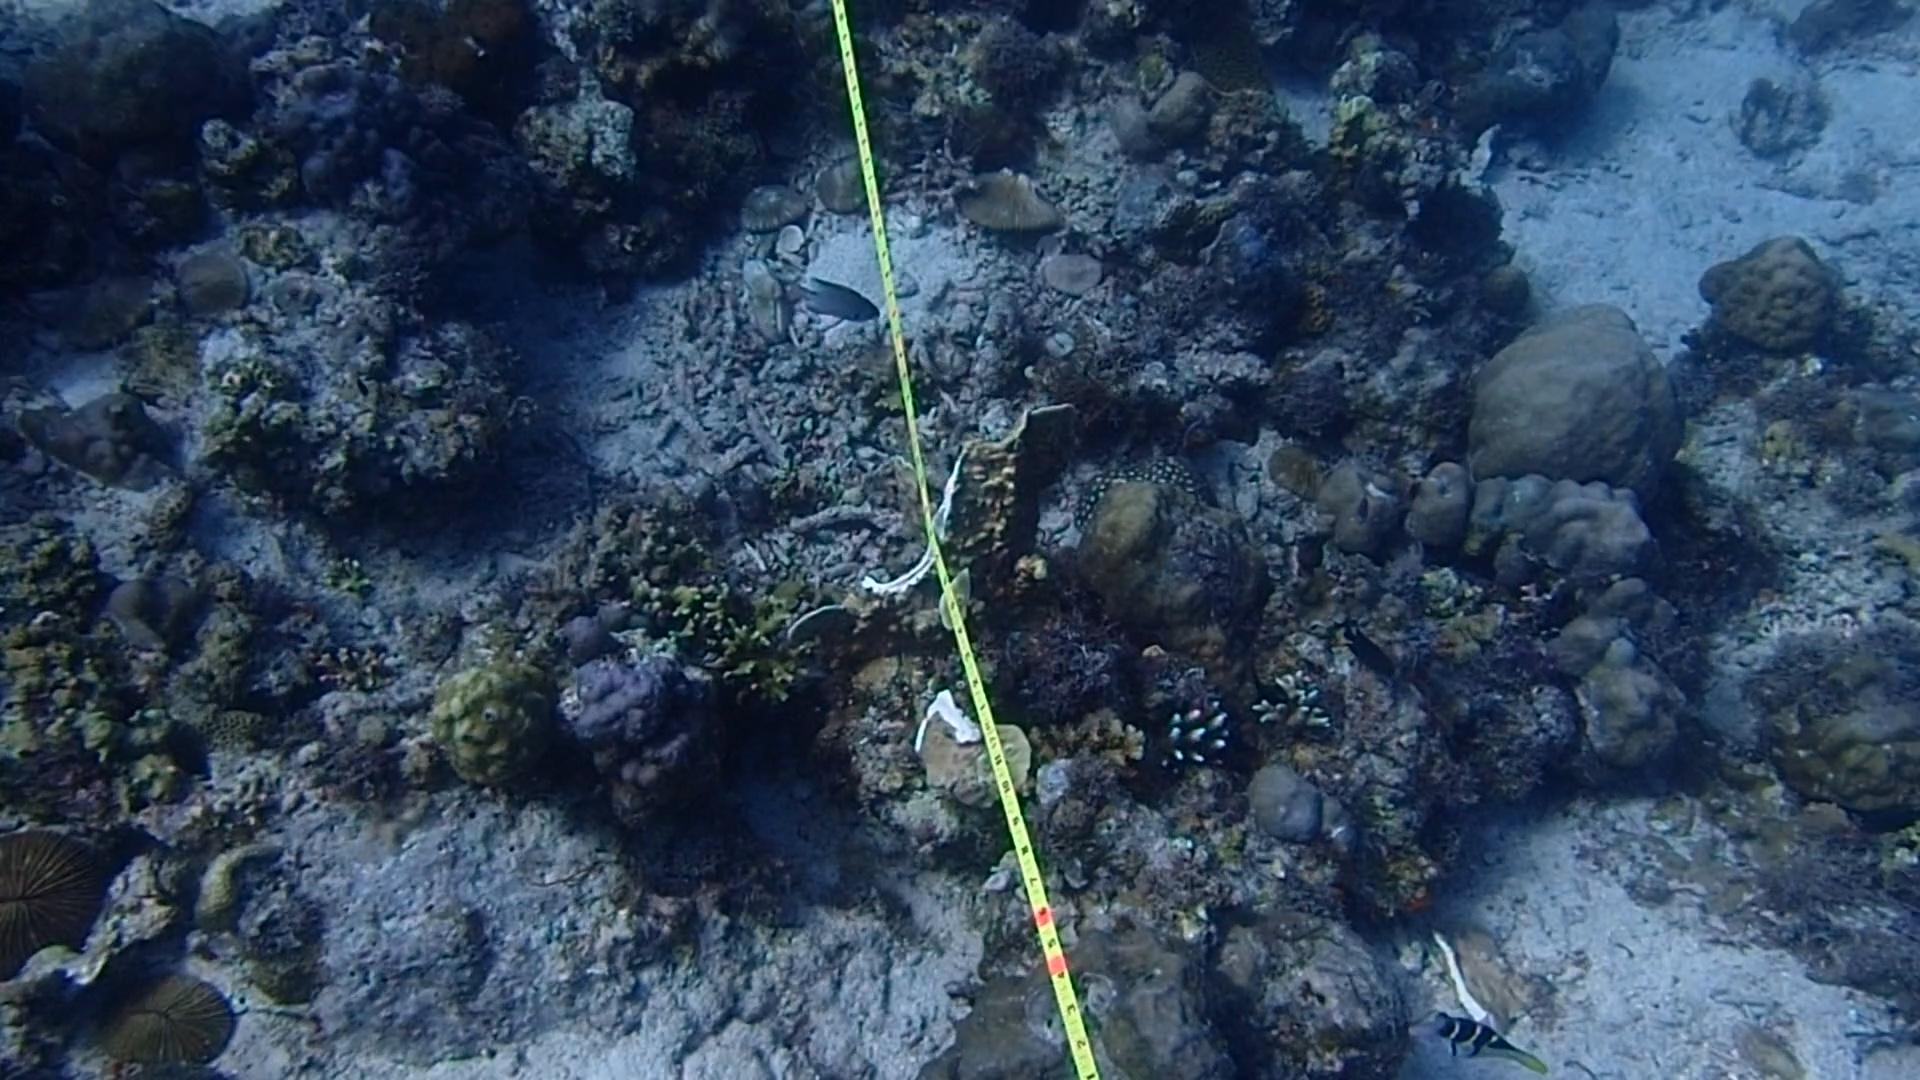Striped Fish: (1433, 1005, 1532, 1076)
